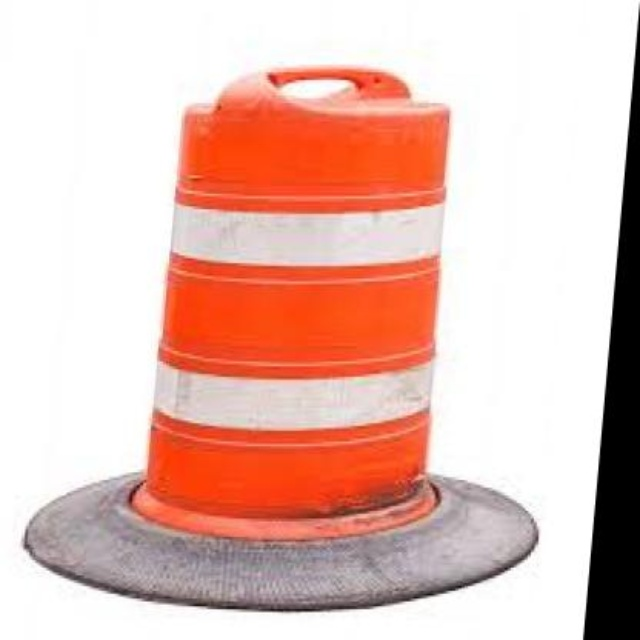obstacle: (101, 62, 551, 540)
